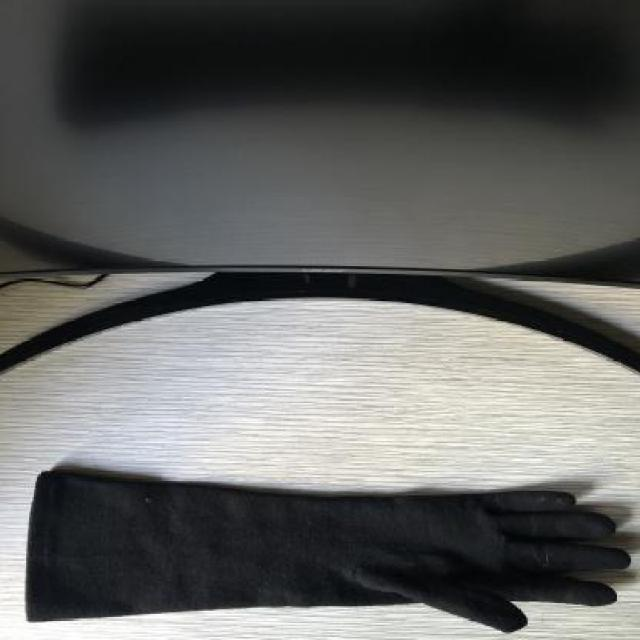Gloves: (17, 455, 640, 638)
